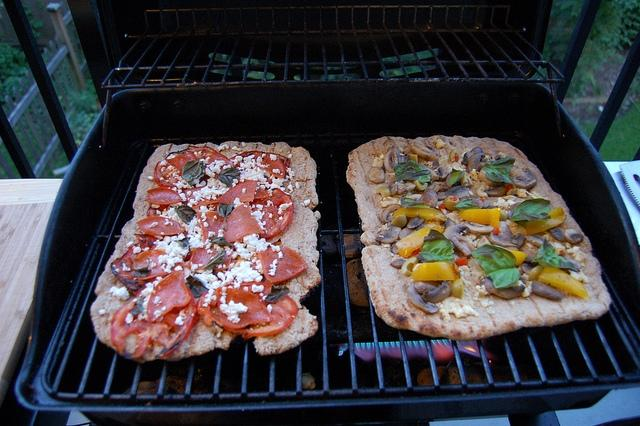bell pepper: (538, 268, 591, 298), (396, 228, 445, 257), (524, 207, 567, 235), (412, 262, 461, 281), (458, 208, 500, 229), (393, 206, 446, 220), (165, 151, 197, 173), (145, 187, 181, 205), (508, 250, 526, 266), (409, 154, 418, 164)
mushroom: (408, 282, 440, 314), (482, 276, 526, 299), (488, 221, 524, 249), (443, 226, 474, 258), (422, 282, 452, 303), (511, 166, 537, 190), (532, 281, 564, 300), (410, 142, 440, 162), (386, 180, 416, 198), (376, 224, 402, 243), (378, 204, 402, 224), (464, 220, 494, 234), (414, 280, 441, 294), (419, 189, 438, 208), (468, 152, 486, 172), (384, 149, 398, 173), (460, 195, 483, 209), (564, 228, 584, 244), (445, 186, 469, 199), (369, 166, 386, 184), (548, 227, 567, 242), (524, 234, 544, 248), (446, 172, 462, 188), (483, 186, 506, 197), (434, 165, 448, 182), (391, 213, 406, 228), (406, 217, 426, 228), (390, 258, 406, 270), (399, 228, 416, 239), (521, 263, 535, 274), (482, 200, 490, 208)
tomato: (111, 285, 196, 363), (196, 283, 298, 336), (148, 270, 192, 323), (249, 188, 294, 239), (216, 288, 272, 328), (196, 152, 235, 181), (136, 216, 185, 236), (154, 160, 179, 188)
